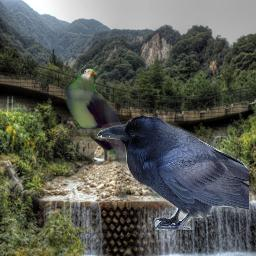Crow: (97, 115, 249, 230)
Cuckoo: (64, 67, 167, 200)
